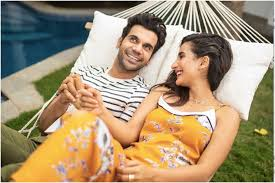Bad: (2, 12, 241, 183)
